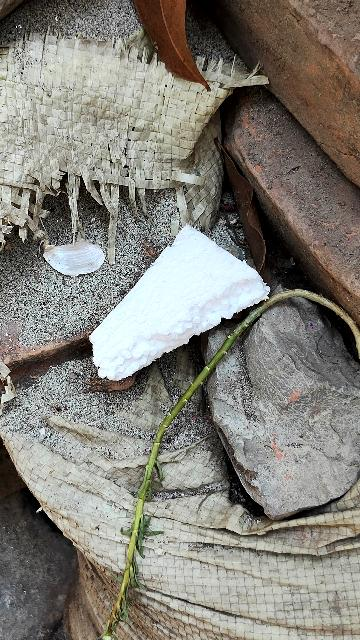cocksheet: (86, 208, 279, 388)
